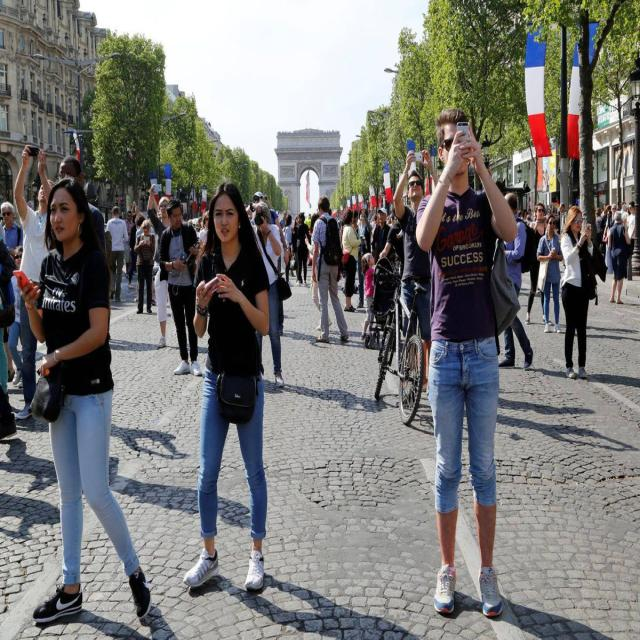body: (12, 174, 154, 626), (414, 106, 524, 620), (181, 178, 272, 593), (107, 422, 252, 536), (229, 568, 422, 639), (495, 363, 640, 455), (12, 144, 54, 421), (393, 148, 440, 392), (439, 587, 618, 640), (245, 199, 292, 390), (158, 197, 204, 378), (0, 436, 63, 542), (497, 192, 534, 371), (261, 365, 388, 417), (560, 205, 595, 380), (310, 194, 350, 344), (250, 190, 290, 336), (61, 603, 181, 640), (146, 183, 171, 349), (57, 153, 106, 235), (0, 234, 19, 438), (524, 202, 554, 326), (535, 212, 564, 334), (310, 213, 334, 333), (340, 207, 366, 313), (6, 245, 23, 389), (105, 204, 129, 304), (606, 210, 630, 305), (133, 211, 157, 306), (133, 218, 156, 315), (354, 206, 372, 309), (593, 200, 633, 246), (358, 252, 376, 342), (0, 201, 25, 262), (378, 224, 404, 280), (371, 206, 392, 264), (130, 200, 158, 242), (295, 212, 310, 288), (281, 214, 294, 288), (353, 202, 379, 239), (128, 212, 138, 290), (124, 210, 135, 278), (187, 210, 210, 242), (290, 208, 298, 280), (626, 200, 636, 257), (518, 201, 536, 227), (594, 207, 604, 249), (555, 202, 568, 233), (147, 188, 161, 215), (607, 202, 617, 230), (386, 206, 400, 226), (278, 210, 288, 231), (544, 202, 555, 214), (337, 218, 342, 228), (328, 207, 332, 217)
